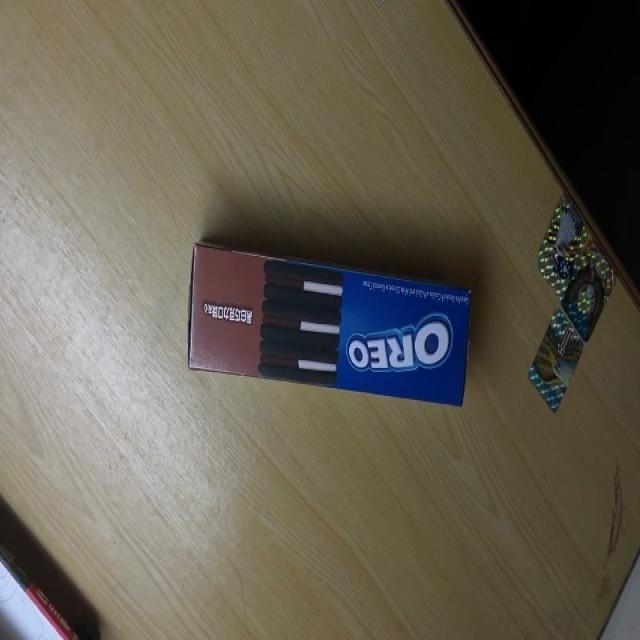Oreo: (186, 243, 474, 410)
